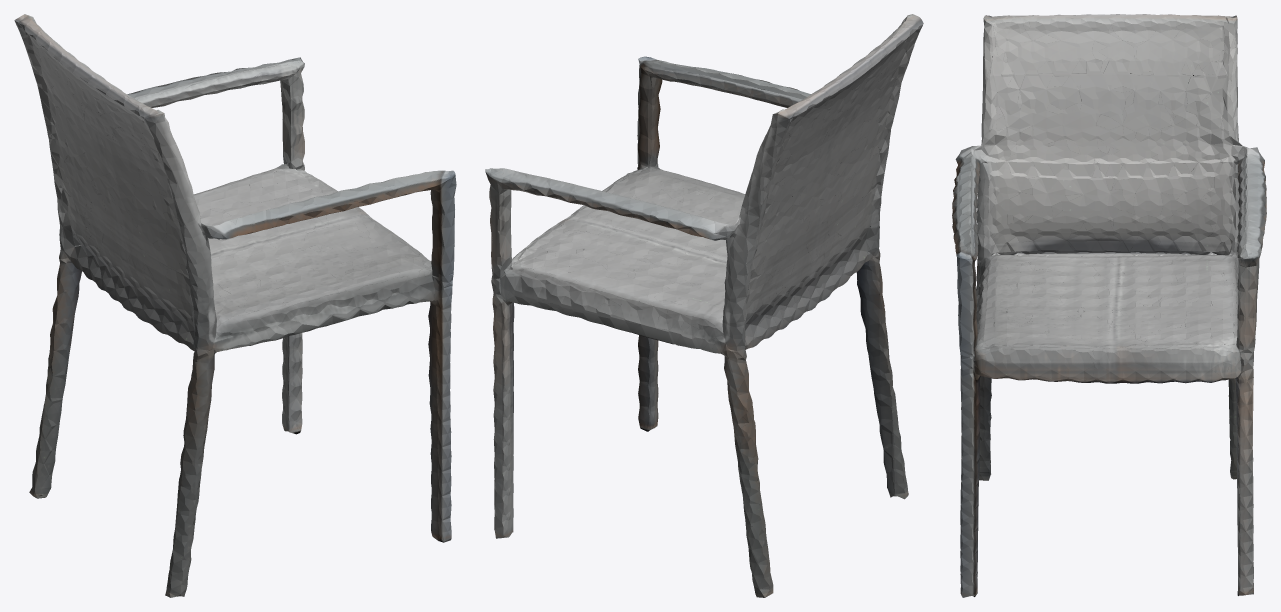
File: elem_115_131_206_213_3_6.obj
3 renders of one model, left to right at view 1: azimuth 30°, elevation 25°; view 2: azimuth 150°, elevation 25°; view 3: azimuth 270°, elevation 25°, orthographic. The views are drawn at different scales.
Size of the model in its own units: 0.4631 by 0.7092 by 0.4454.
1 material, 1 textured.
